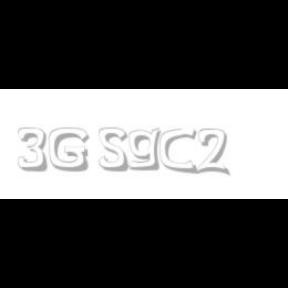2: (195, 128, 229, 176)
3: (17, 128, 48, 172)
C: (160, 128, 197, 174)
G: (49, 128, 89, 172)
S: (98, 128, 130, 172)
g: (128, 128, 164, 171)
